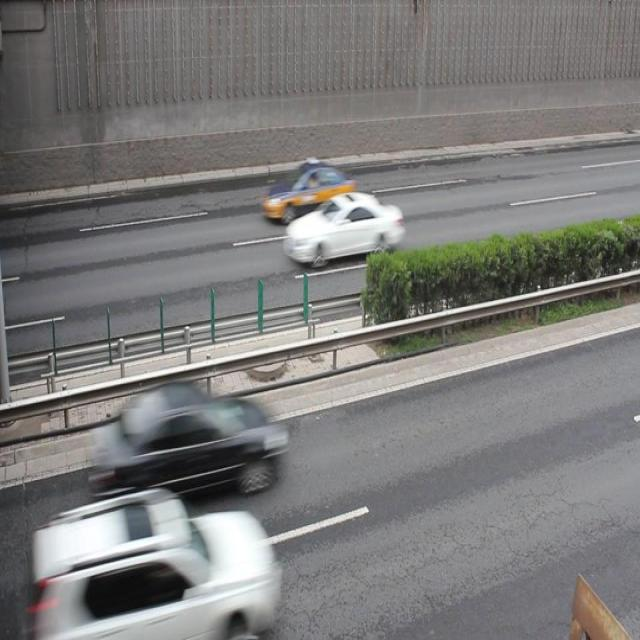car: (32, 480, 280, 640), (96, 382, 287, 496), (282, 191, 404, 268), (264, 157, 357, 220)
